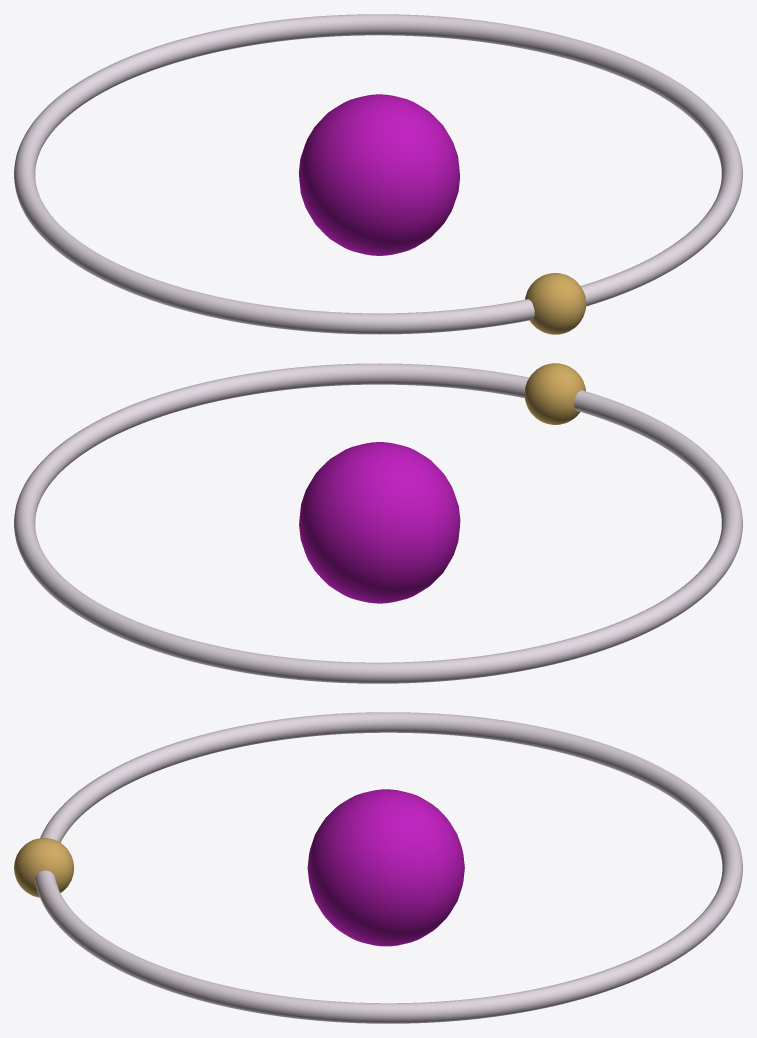
The model's file is hidrogenio.glb.
3 renders of one model, top to bottom at view 1: azimuth 30°, elevation 25°; view 2: azimuth 150°, elevation 25°; view 3: azimuth 270°, elevation 25°, orthographic. The views are drawn at different scales.
Visible parts, largest first — view 1: BézierCircle, Sphere, Sphere.001; view 2: BézierCircle, Sphere, Sphere.001; view 3: BézierCircle, Sphere, Sphere.001.
Part boxes in pixels (box(x1,y1,x2,y2)): BézierCircle: box(14, 14, 742, 334); Sphere: box(299, 94, 459, 255); Sphere.001: box(525, 273, 586, 334); BézierCircle: box(14, 363, 742, 683); Sphere: box(299, 442, 460, 603); Sphere.001: box(524, 363, 585, 424); BézierCircle: box(35, 712, 742, 1023); Sphere: box(307, 789, 464, 946); Sphere.001: box(14, 838, 73, 897).
Size of the model in its own units: 4.43 by 0.9834 by 4.56.
